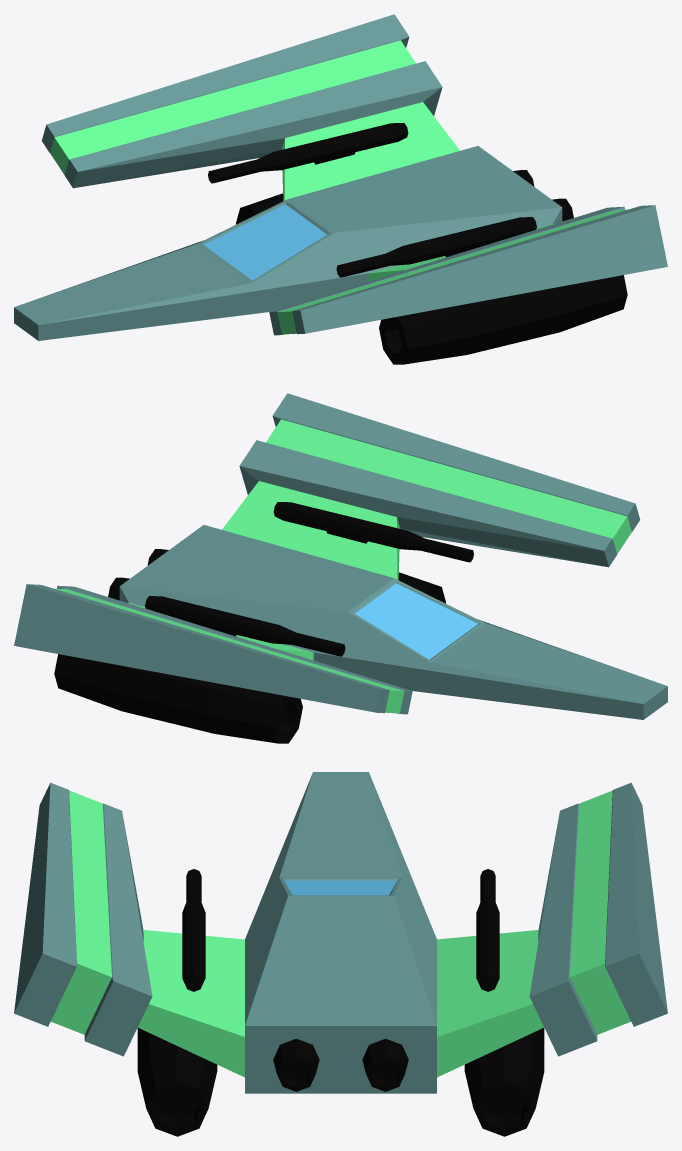
The model's file is fighter3.fbx.
The picture shows the model from 3 angles, top to bottom: view 1: azimuth 30°, elevation 25°; view 2: azimuth 150°, elevation 25°; view 3: azimuth 270°, elevation 25°; orthographic projection. The views are drawn at different scales.
Parts seen in each view (by area): view 1: Fighter3; view 2: Fighter3; view 3: Fighter3.
Part boxes in pixels (x1=…): Fighter3: x1=14, y1=14, x2=667, y2=364; Fighter3: x1=14, y1=393, x2=667, y2=743; Fighter3: x1=14, y1=772, x2=667, y2=1136.
Bounding box in the file's own units: 552 × 161 × 526.
